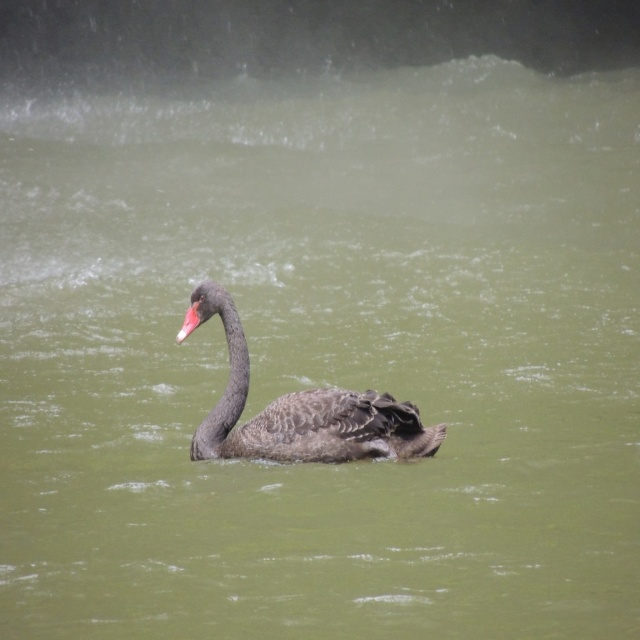Swan: (176, 279, 447, 465)
